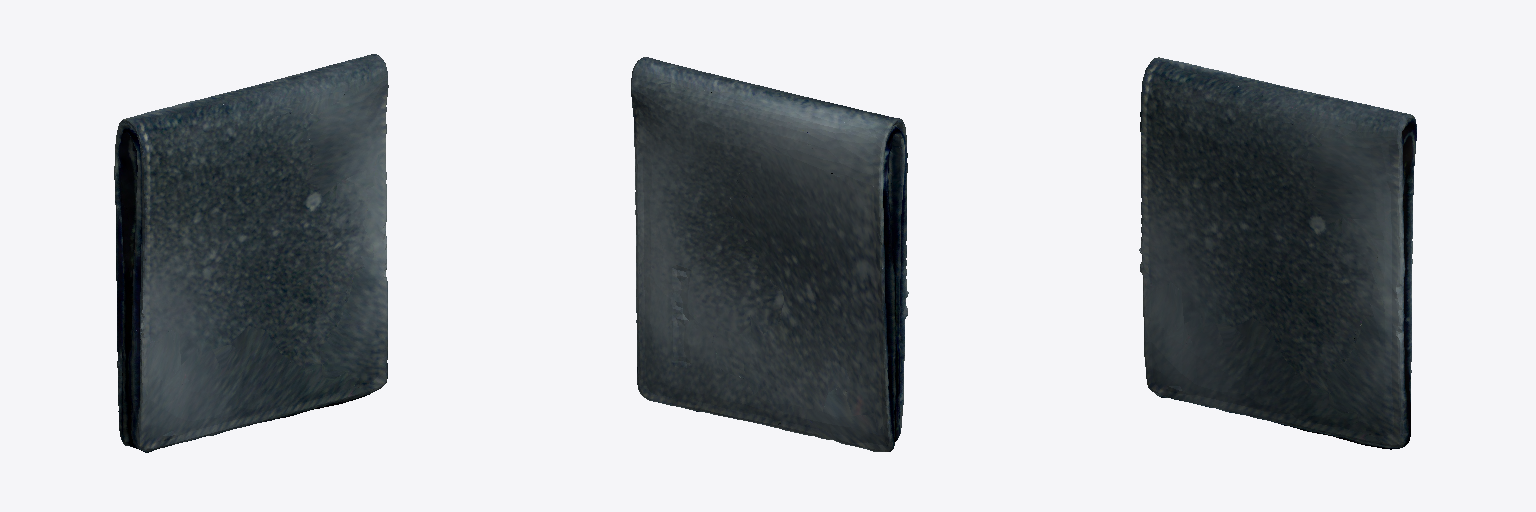
3 views of the same model, side by side, from view 1: azimuth 30°, elevation 25°; view 2: azimuth 150°, elevation 25°; view 3: azimuth 330°, elevation 25° (orthographic).
Size of the model in its own units: 97.03 by 121 by 18.85.
1 materials, 1 textured.